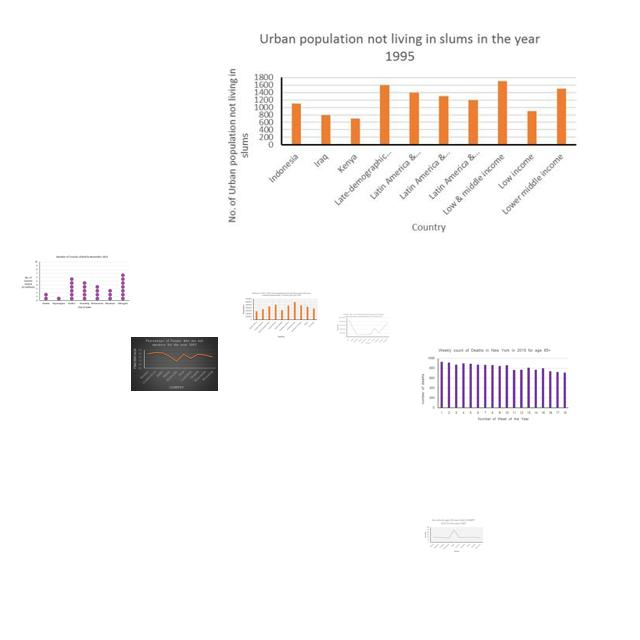Graph: (222, 27, 581, 237), (419, 347, 570, 423), (21, 254, 130, 310), (131, 337, 218, 391), (240, 291, 319, 338), (423, 518, 484, 553), (337, 313, 390, 344)
